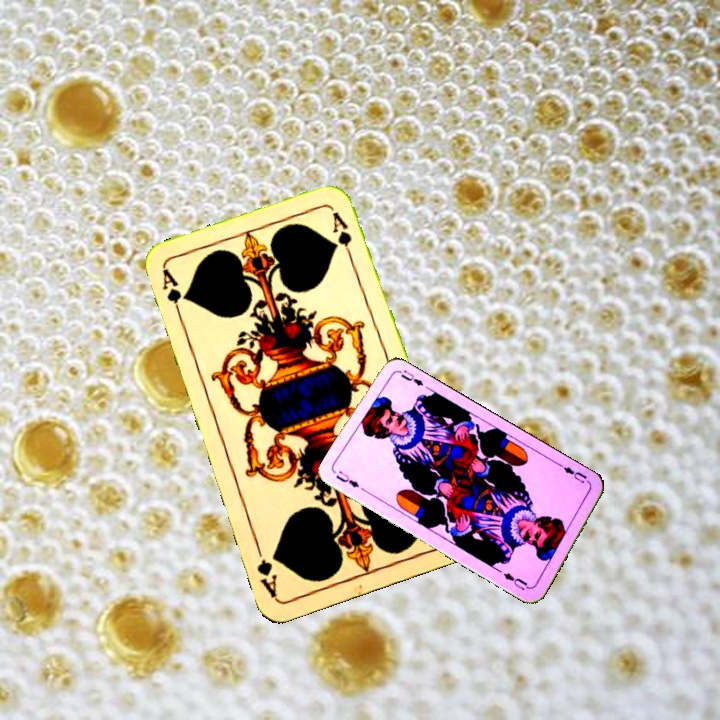EU: (556, 460, 590, 486), (332, 466, 362, 490)
GA: (158, 265, 185, 324)
